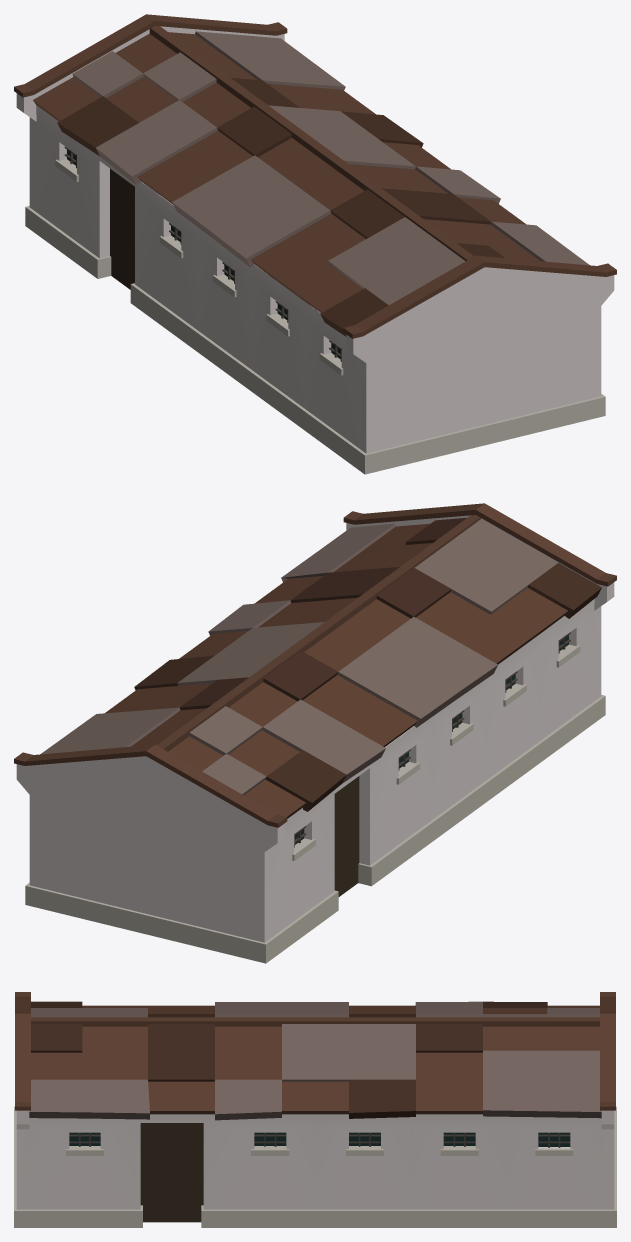
File: Building_mode_L1_Storehouse001.fbx
The picture shows the model from 3 angles, top to bottom: view 1: azimuth 30°, elevation 25°; view 2: azimuth 150°, elevation 25°; view 3: azimuth 270°, elevation 25°; orthographic projection. The views are drawn at different scales.
Parts seen in each view (by area): view 1: Building_mode_L1_Storehouse001; view 2: Building_mode_L1_Storehouse001; view 3: Building_mode_L1_Storehouse001.
Part boxes in pixels (bbox=[...]): Building_mode_L1_Storehouse001: bbox=[14, 14, 616, 474]; Building_mode_L1_Storehouse001: bbox=[14, 503, 616, 963]; Building_mode_L1_Storehouse001: bbox=[14, 992, 616, 1227].
Bounding box in the file's own units: 4.72 × 3.11 × 10.49.
